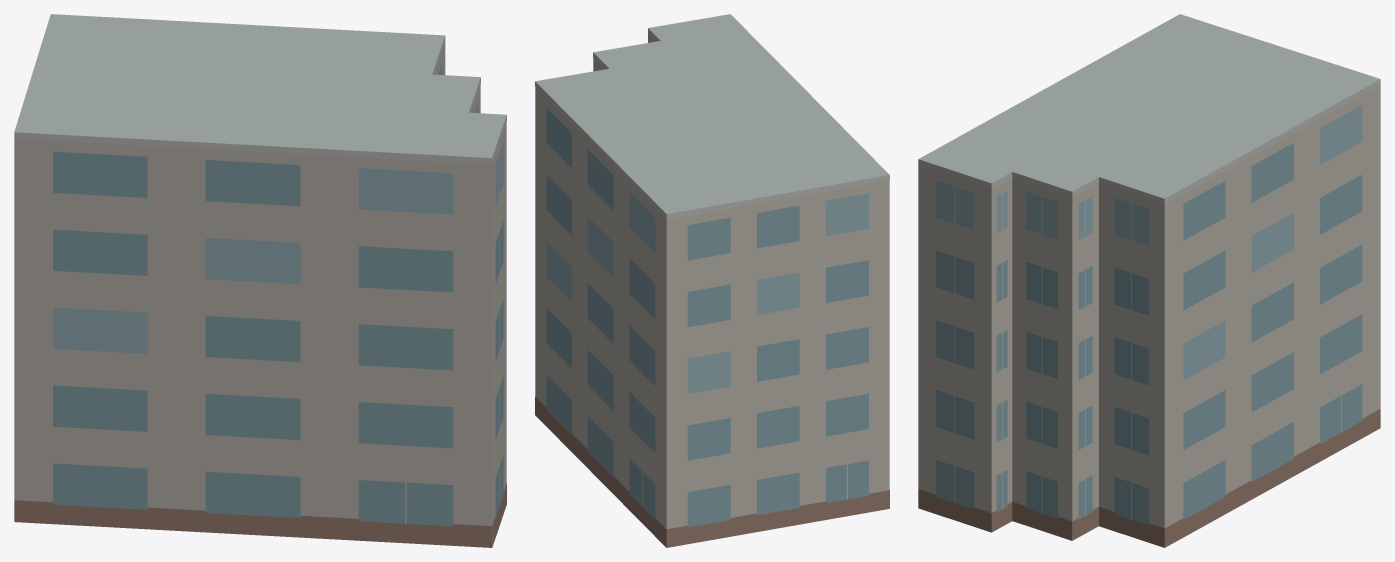
The model's file is survey-upis-32969888.glb.
3 renders of one model, left to right at view 1: azimuth 30°, elevation 25°; view 2: azimuth 150°, elevation 25°; view 3: azimuth 270°, elevation 25°, orthographic. The views are drawn at different scales.
Visible parts, largest first — view 1: survey-upis-32969888.tmp; view 2: survey-upis-32969888.tmp; view 3: survey-upis-32969888.tmp.
Boxes of the visible parts, x1=… form: survey-upis-32969888.tmp: x1=14, y1=14, x2=506, y2=547; survey-upis-32969888.tmp: x1=535, y1=14, x2=889, y2=547; survey-upis-32969888.tmp: x1=918, y1=14, x2=1380, y2=547.
Bounding box in the file's own units: 17.31 × 15.25 × 18.31.
